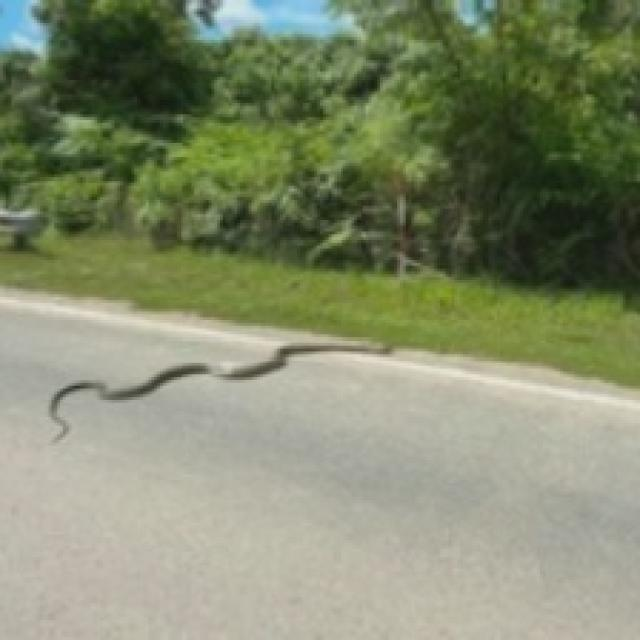king cobra: (49, 343, 389, 440)
